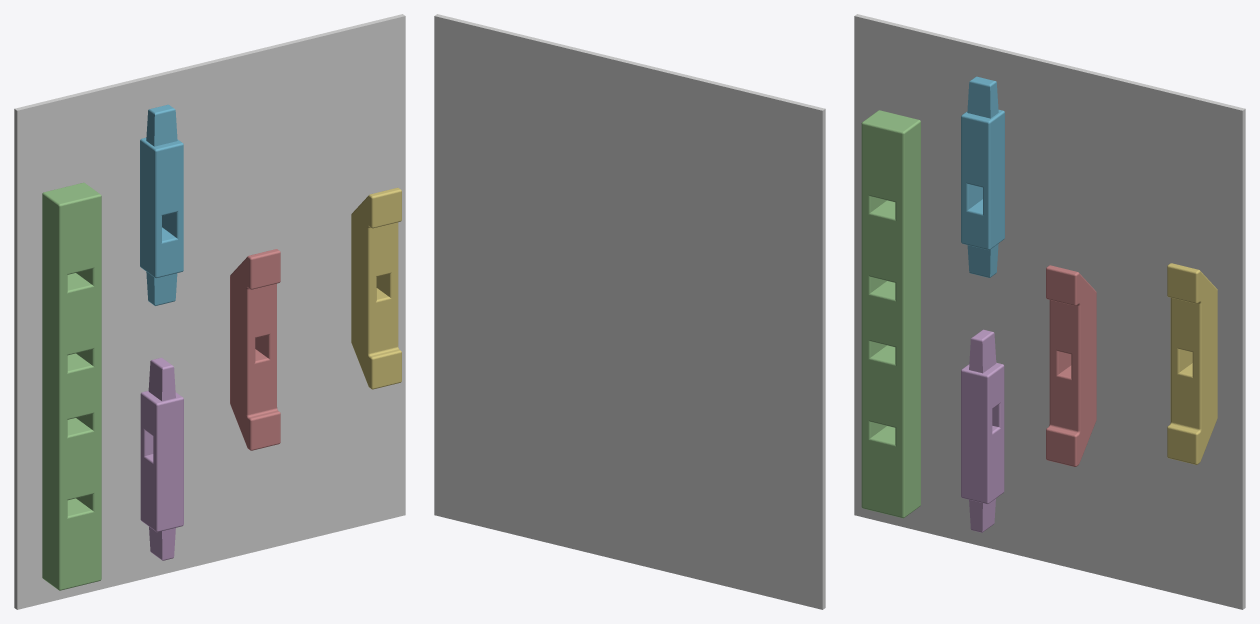
The model's file is pickup_layout.glb.
3 renders of one model, left to right at view 1: azimuth 30°, elevation 25°; view 2: azimuth 150°, elevation 25°; view 3: azimuth 330°, elevation 25°, orthographic.
Visible parts, largest first — view 1: world, 6.obj, 1.obj, 0.obj, 2.obj, 3.obj; view 2: world; view 3: world, 6.obj, 1.obj, 0.obj, 2.obj, 3.obj.
Boxes of the visible parts, x1,y1,x2,y2 form: world: (14,14,405,609); 6.obj: (42,182,101,590); 1.obj: (351,187,401,389); 0.obj: (230,249,280,450); 2.obj: (140,104,183,305); 3.obj: (140,357,183,560); world: (434,14,825,609); world: (854,14,1245,609); 6.obj: (861,110,920,518); 1.obj: (1167,263,1217,464); 0.obj: (1046,265,1096,466); 2.obj: (961,76,1004,277); 3.obj: (961,329,1004,532).
Bounding box in the file's own units: 16.02 × 19.68 × 1.72.
